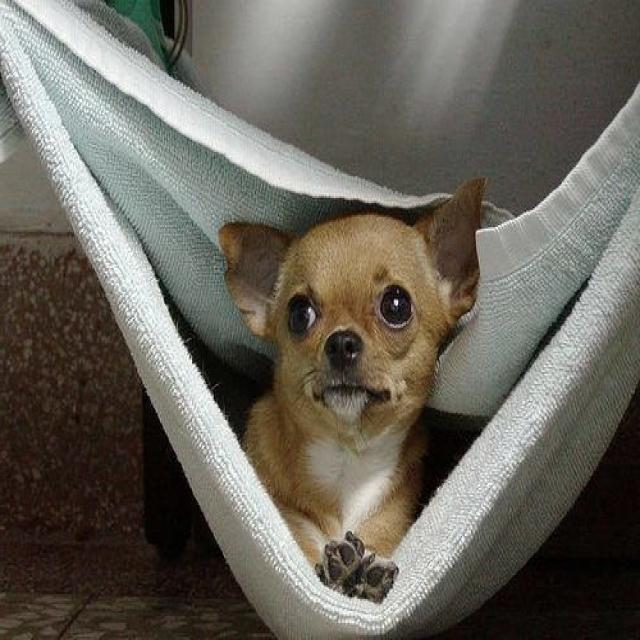chihuahua: (215, 176, 488, 606)
